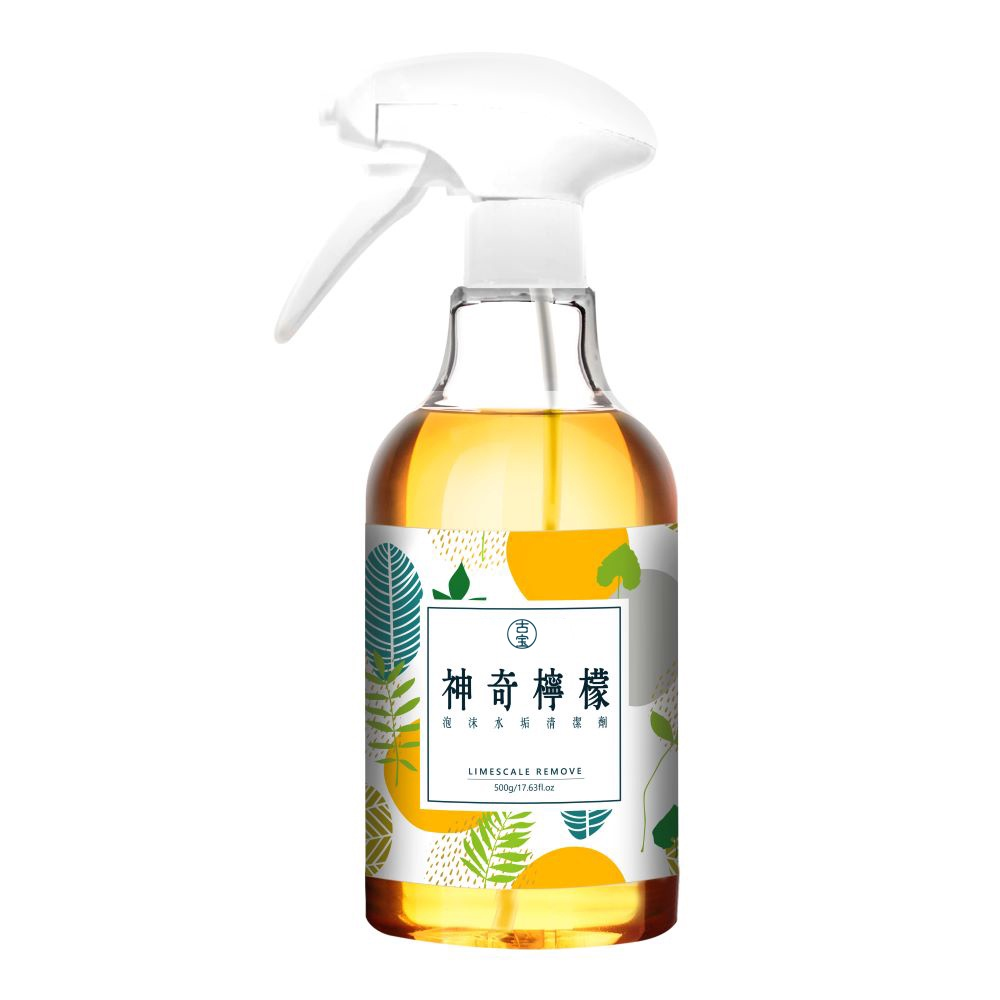cleaner: (264, 52, 734, 955)
